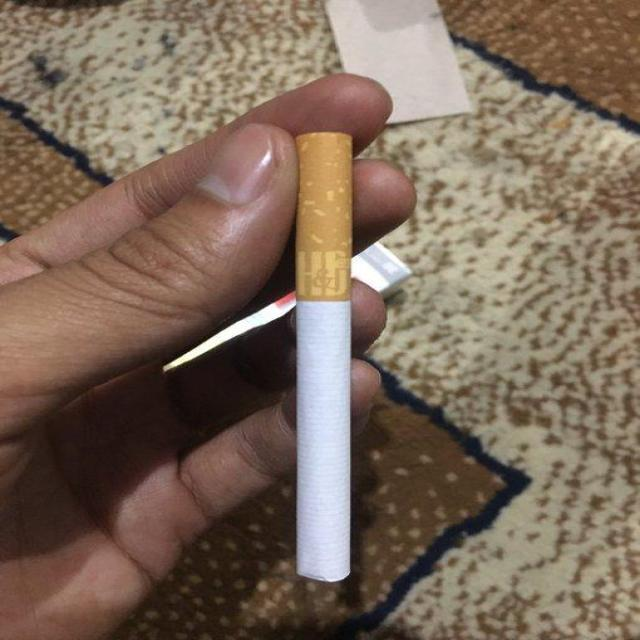rokok: (290, 126, 364, 594)
